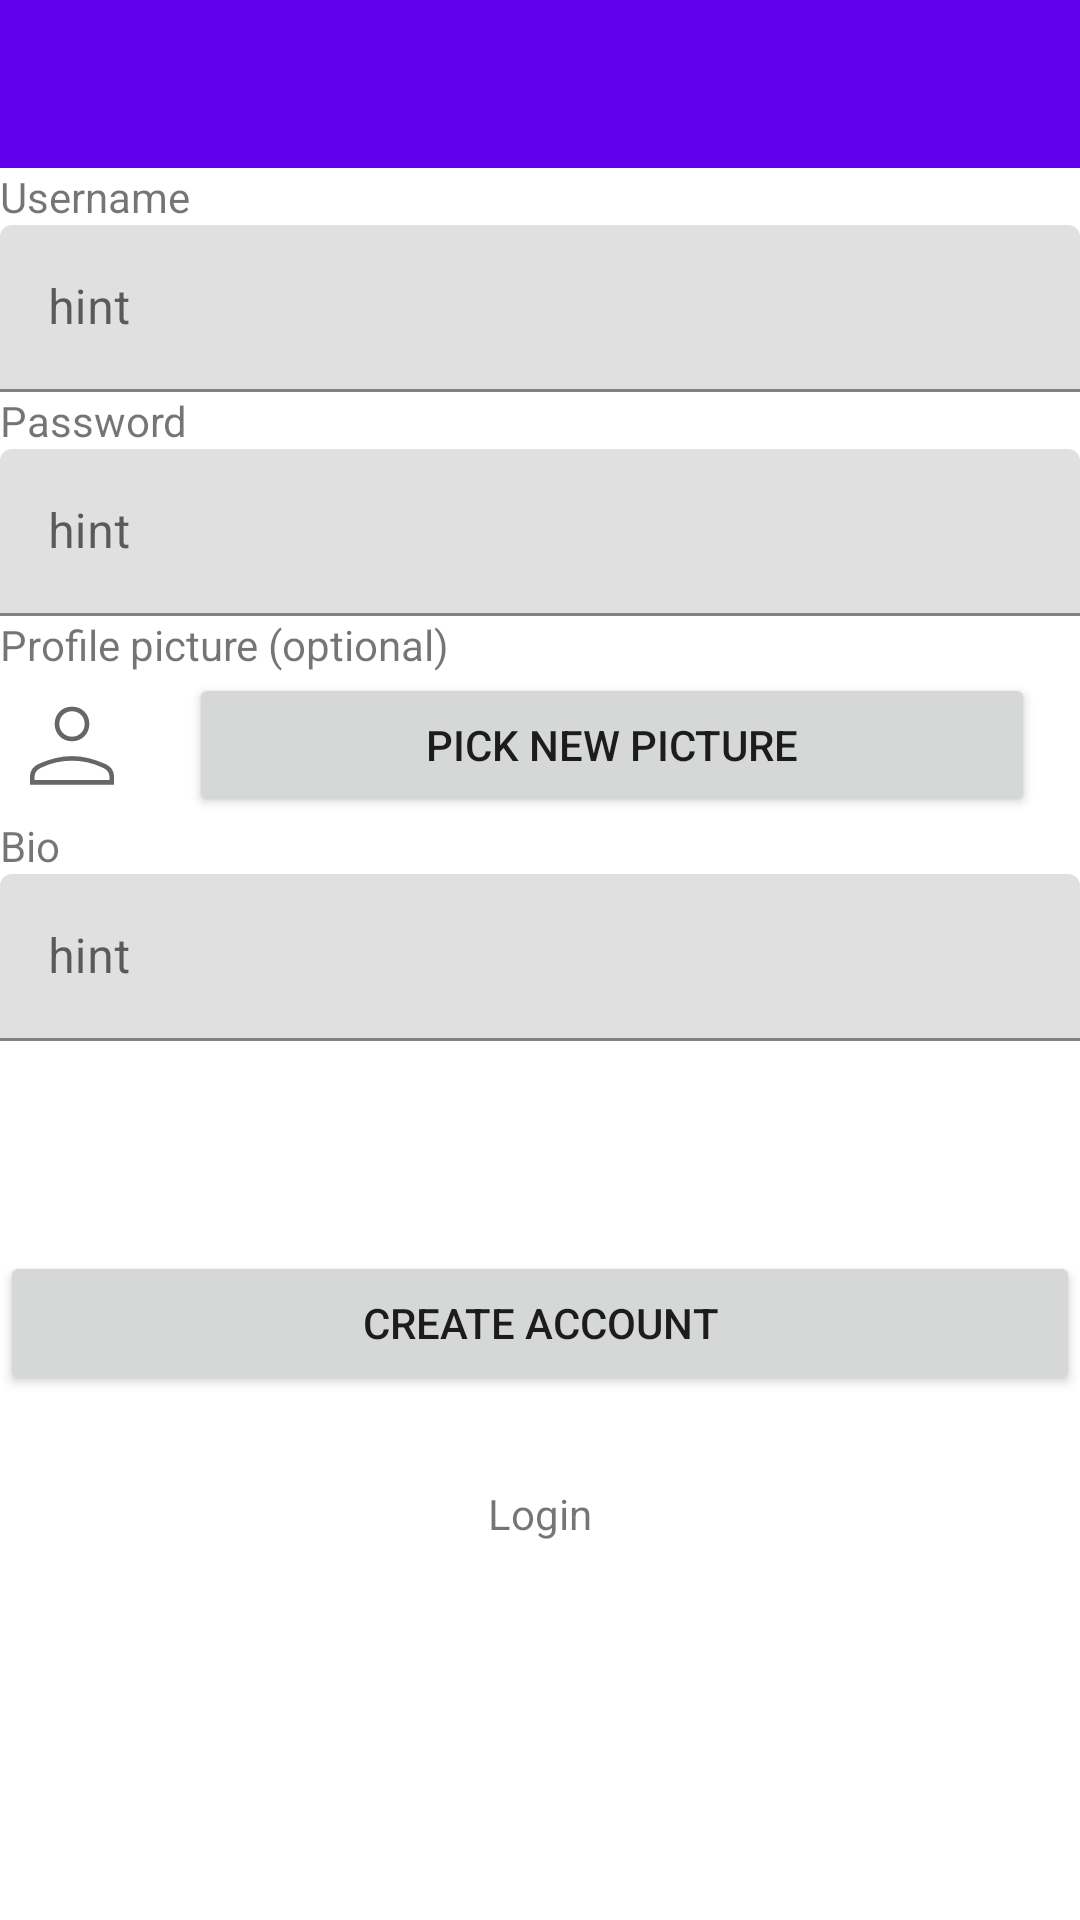

Locate icon controls on the screen. Image size 1080×1920, boxes as (x1, y1, x2, y2).
person: (30, 706, 114, 785)
